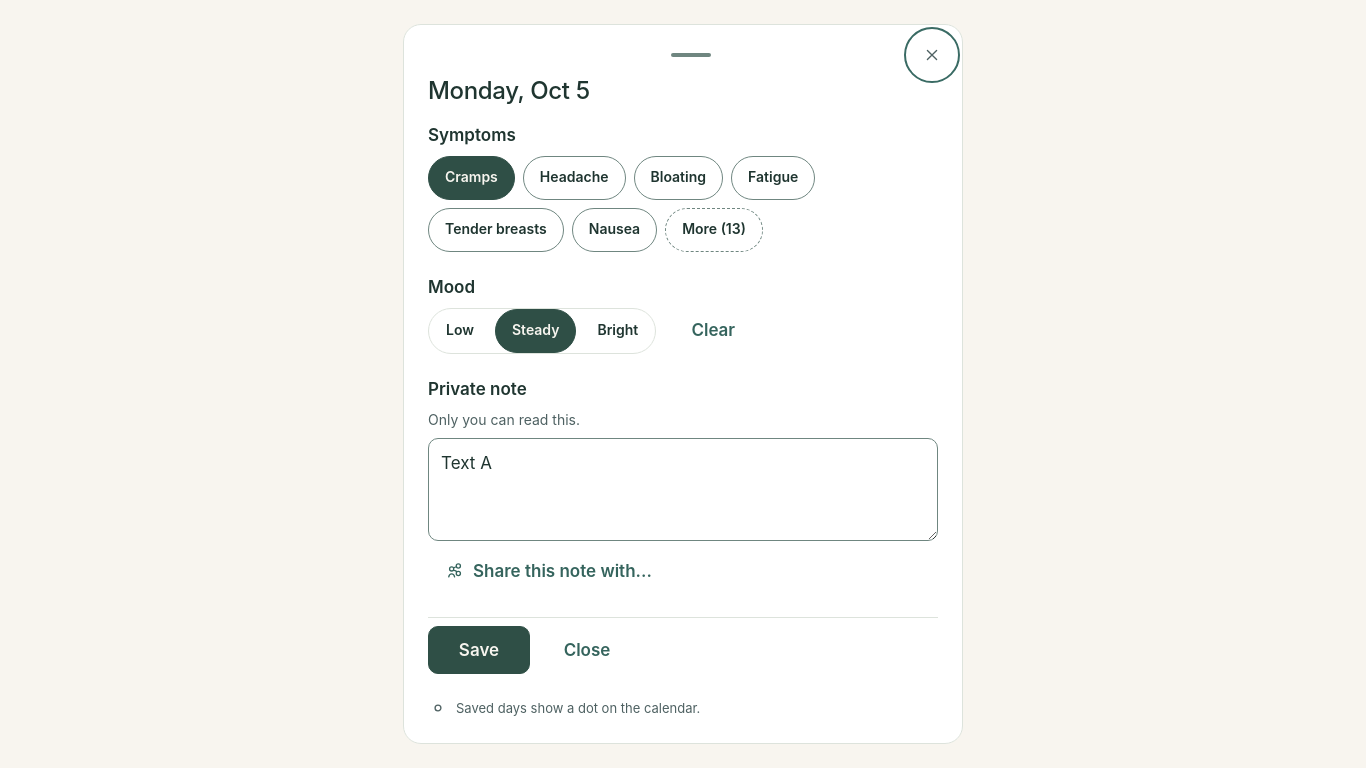
it: DayLogSheet › says a note deleted somewhere else is gone, and empties the field
(page scrolled)
What coordinates should you click on to do the following:
click the button "Share this note with..."
I would click on:
 (548, 571)
Its box is x1=428 y1=549 x2=669 y2=593.
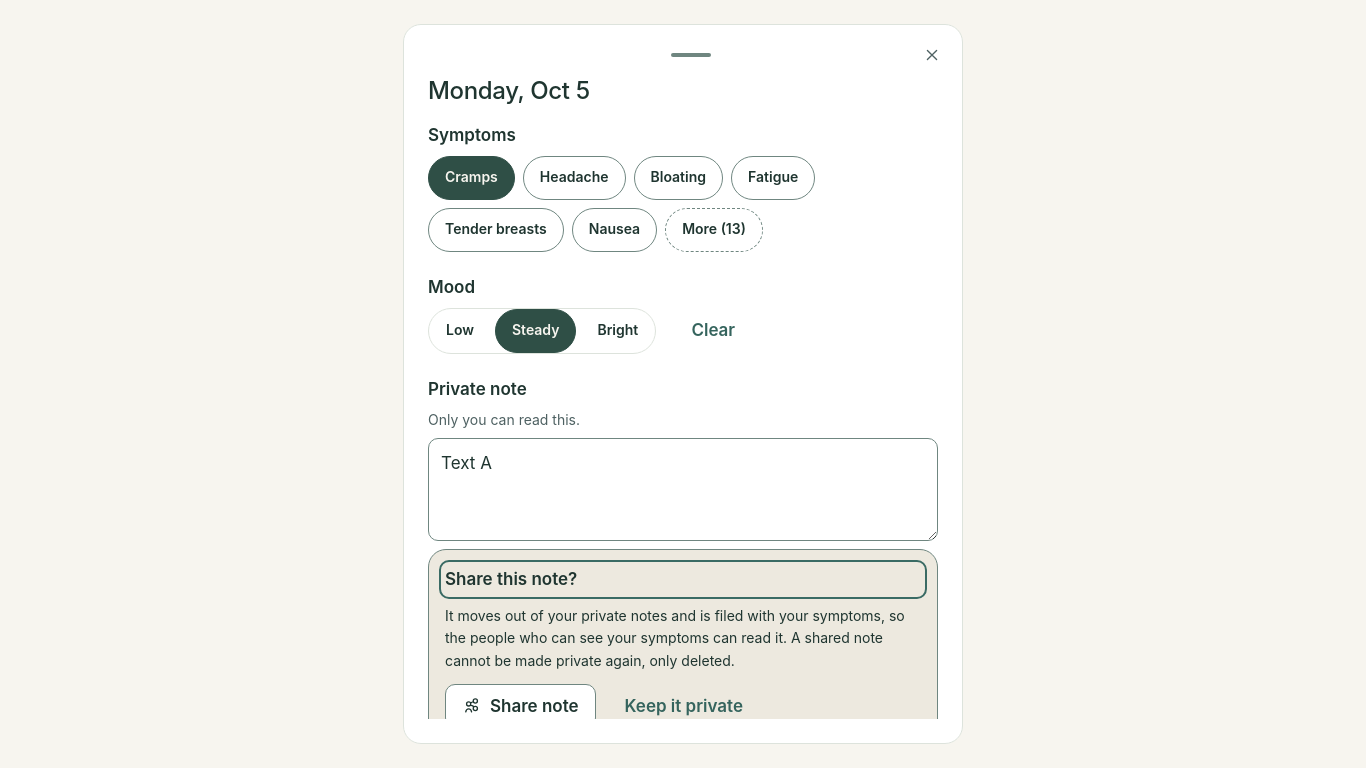
What coordinates should you click on to do the following:
click the button "Share note"
I would click on:
 (520, 706)
Its box is x1=445 y1=684 x2=596 y2=728.
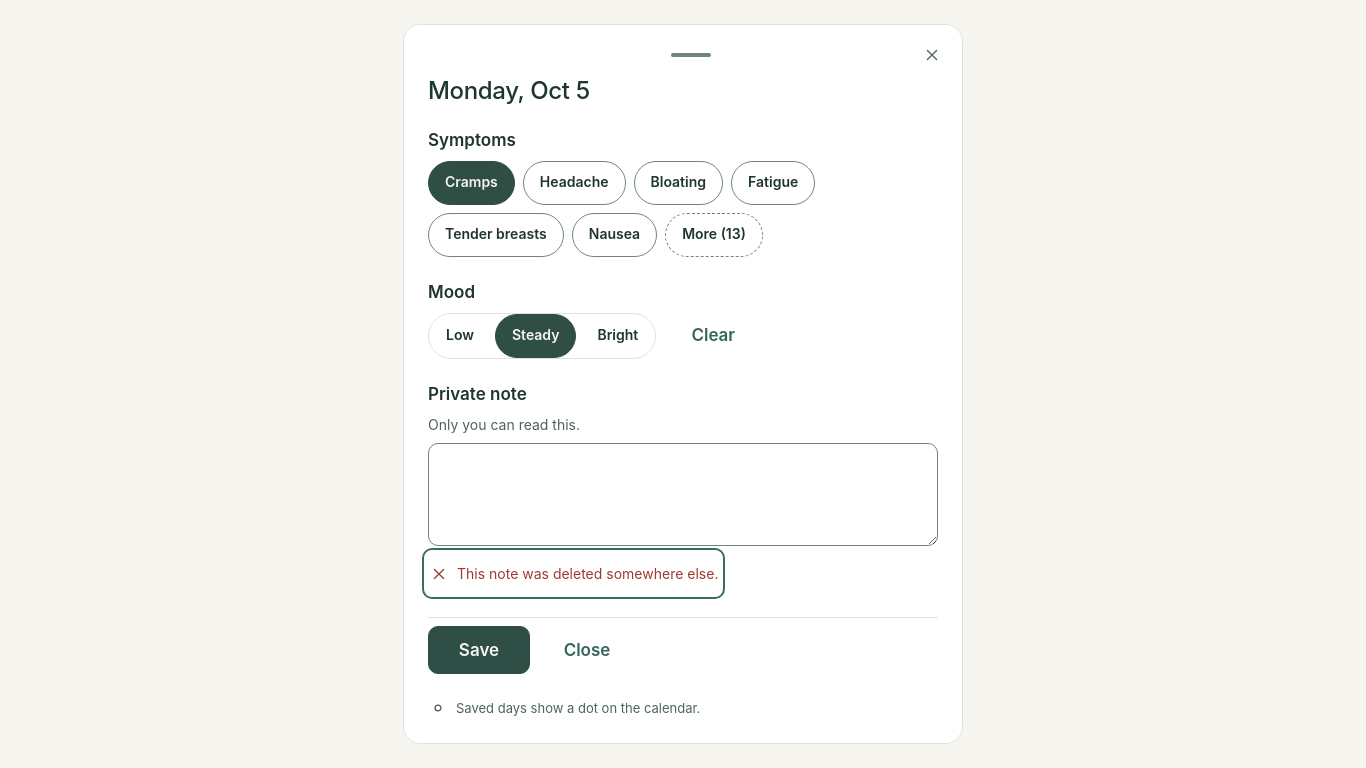
Expected: the text box labelled "Private note" is empty, x1=428 y1=443 x2=938 y2=546
Expected: the text "Share this note" is gone
